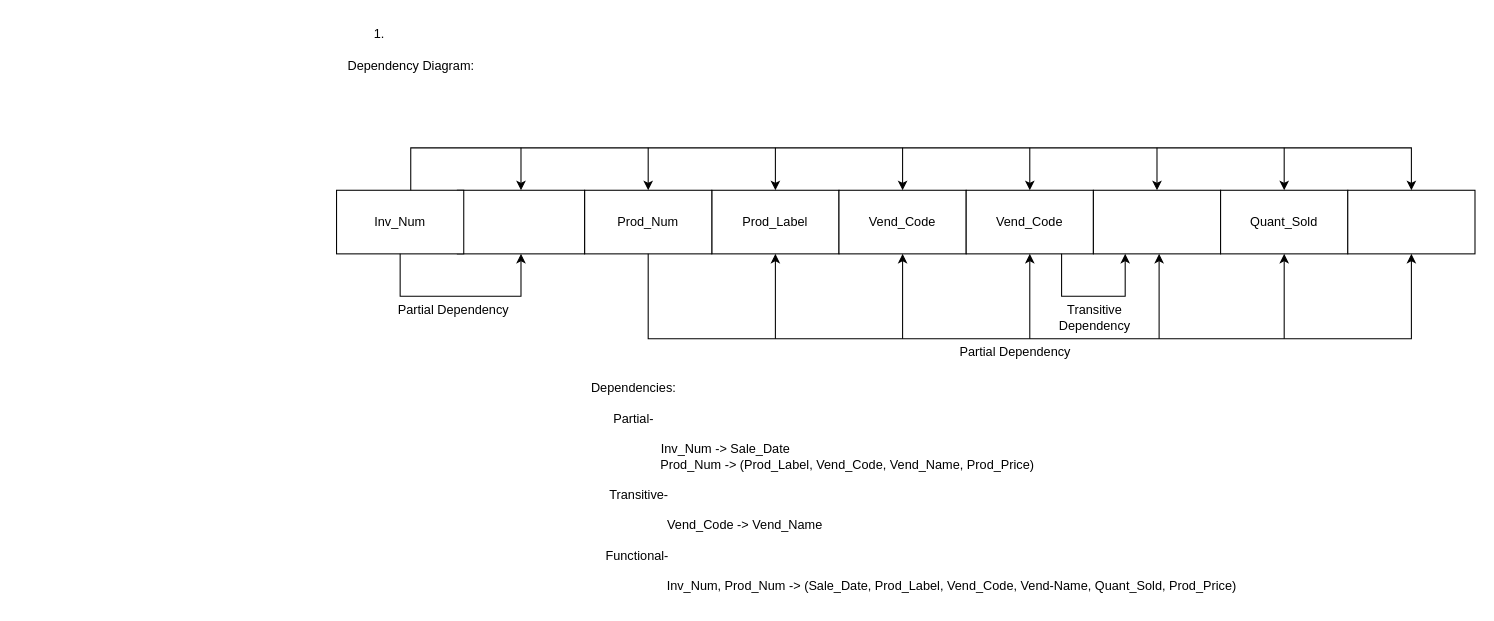
Some shapes in this 1494 by 621 pixel diagram are drawn without their labels. The centre of each missing label's shape, as x and y in pixels:
Prod_Price: [1411,221]
Sale_Date: [520,221]
Vend_Name: [1156,221]
